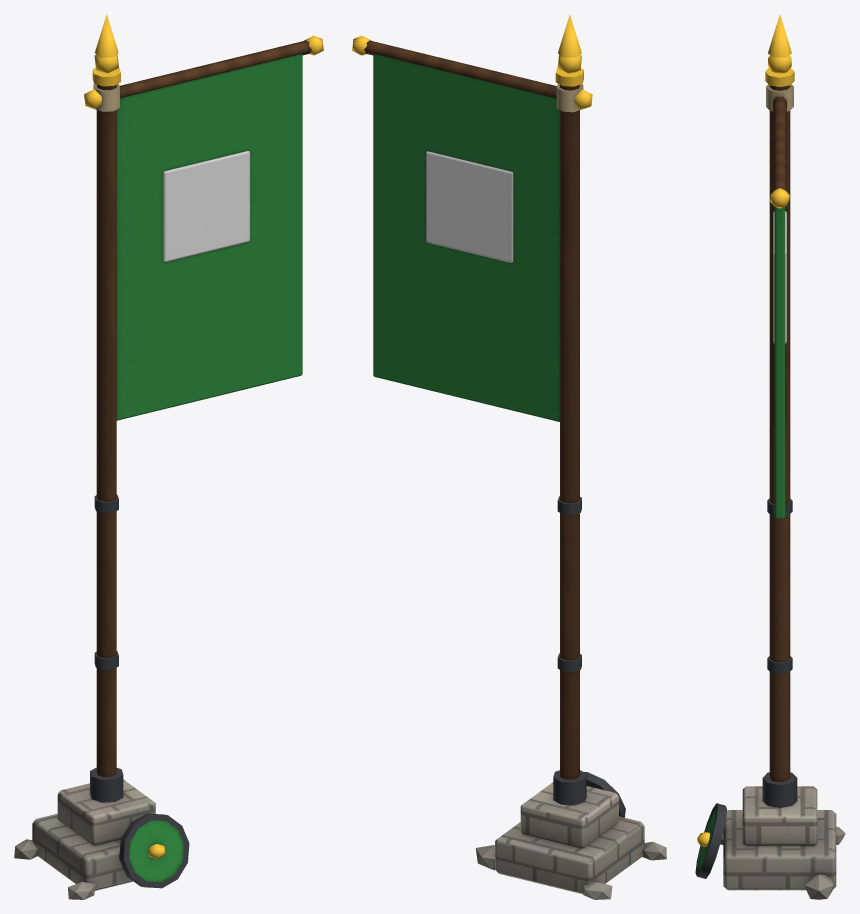
File: banner_green.glb
The picture shows the model from 3 angles, left to right: view 1: azimuth 30°, elevation 25°; view 2: azimuth 150°, elevation 25°; view 3: azimuth 270°, elevation 25°; orthographic projection.
Parts seen in each view (by area): view 1: cloth; view 2: cloth; view 3: cloth.
Part boxes in pixels (x1,y1,x2,y2): cloth: (14, 14, 323, 899); cloth: (352, 14, 666, 899); cloth: (695, 14, 845, 899).
Size of the model in its own units: 0.3787 by 1.09 by 0.1728.
Materials: 3 (1 with a texture image).
